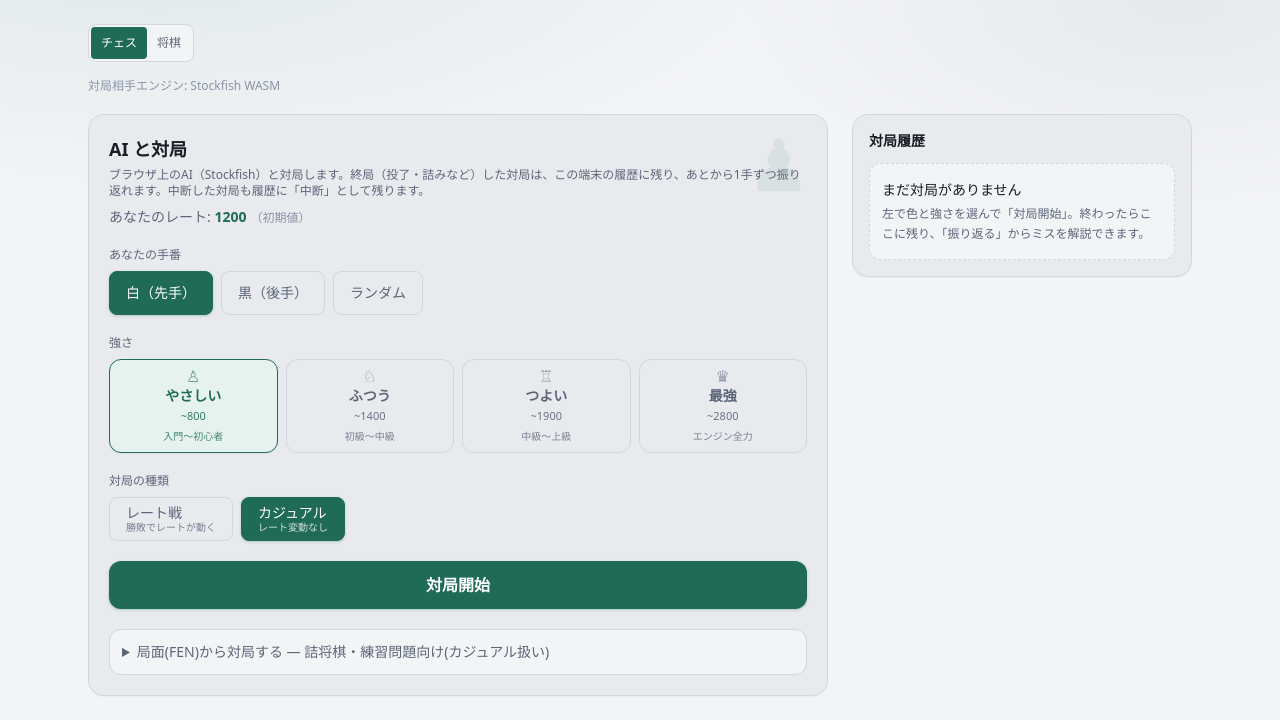
Test case: PlayView 状態機械（チェス） › 黒を選ぶと AI(白)が開始と同時に初手を指す（runAiMove 自動発火）
This screenshot has width=1280, height=720.
Expected: the button "対局開始" is enabled, [109,560,807,608]
Step 1. Click the button "黒（後手）" → click(273, 293), box [221,271,325,315]
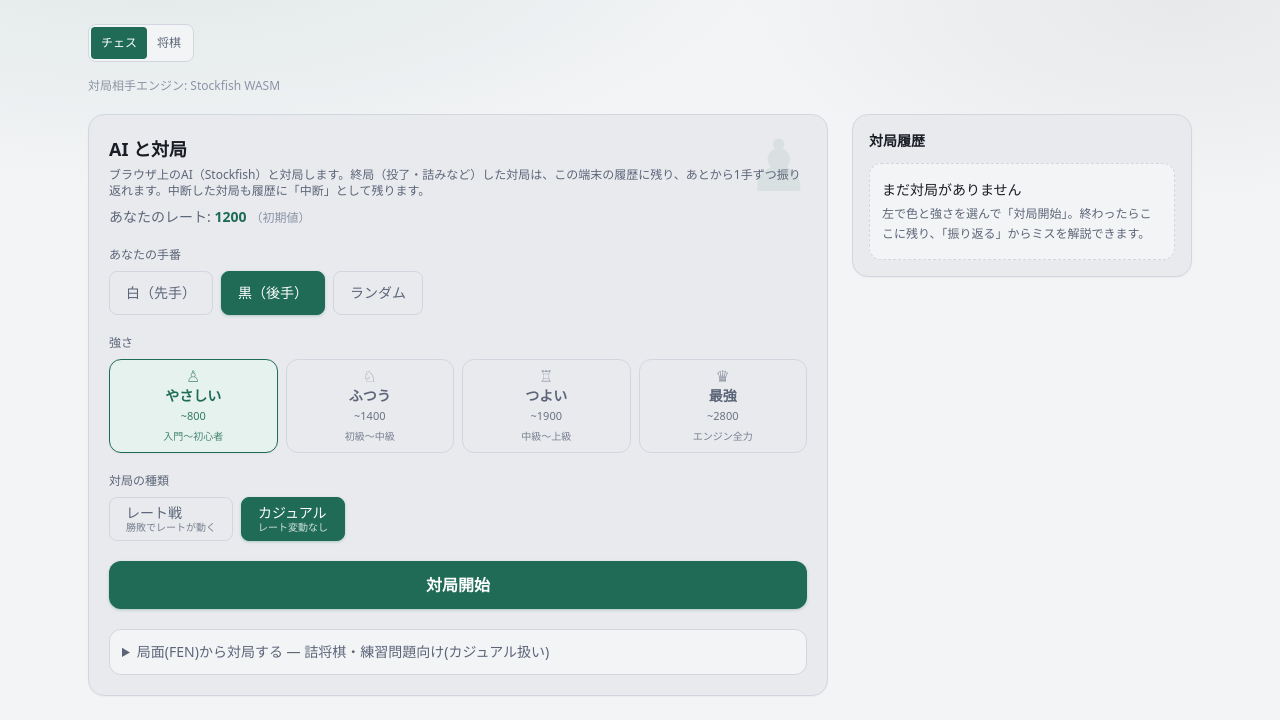
Step 2. Click the button "対局開始" → click(458, 584), box [109,560,807,608]
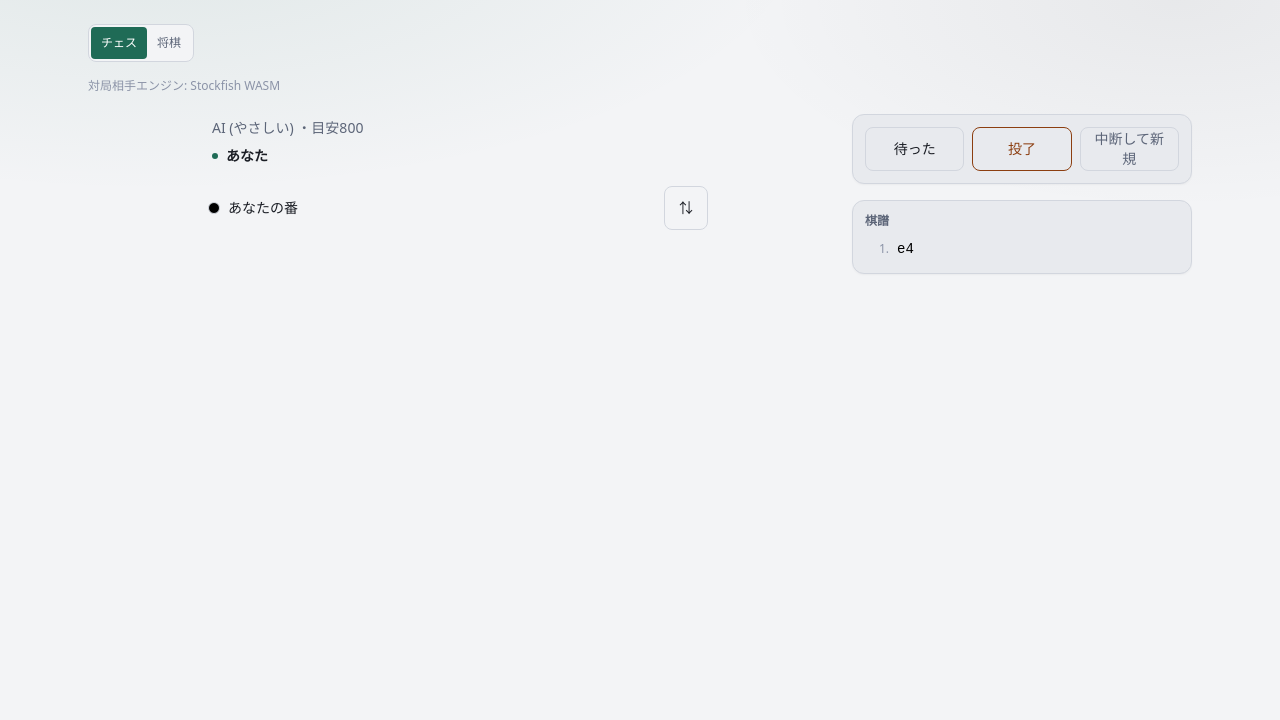
Expected: the text "e4" is shown, [897,237,1179,261]
